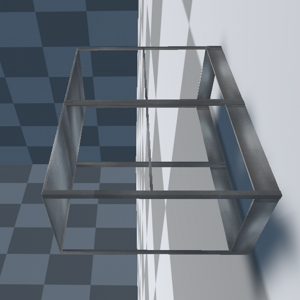Rack: (16, 44, 263, 254)
